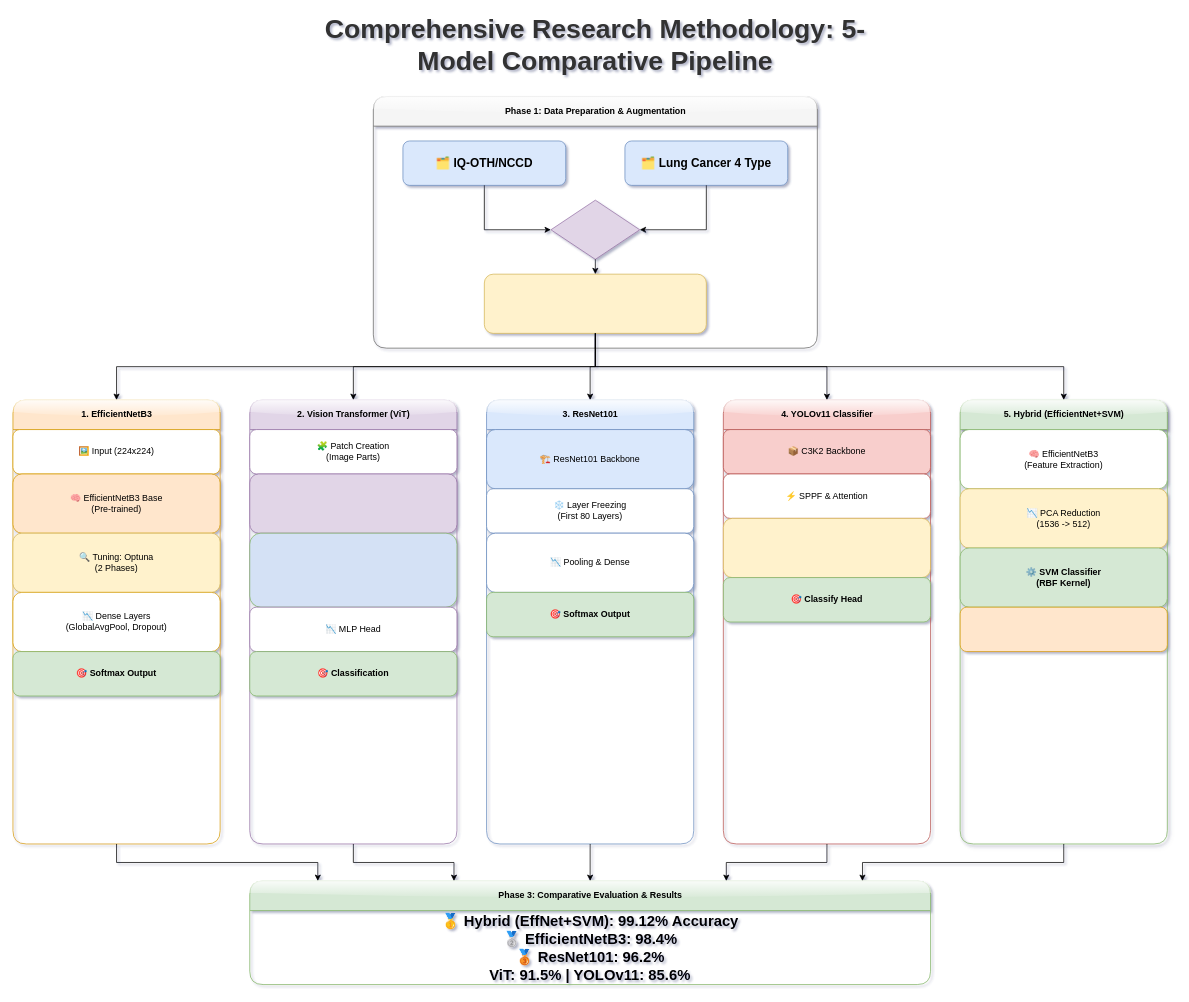
Some shapes in this 1189 by 1002 pixel diagram are drawn without their labels. Here are the shapes that lost their labels. From the top down, the centre of each, then its label:
At point (595, 229): "🔗 Mapping & Merging".
At point (595, 303): "⚙️ Augmentation Pipeline (No-Resize, CLAHE, Balancing)".
At point (353, 503): "📐 Linear Projection & Positional Emb.".
At point (827, 548): "🔍 Optuna Tuning (15 Trials)".
At point (353, 569): "🤖 Transformer Encoder (Self-Attention)".
At point (1063, 629): "🏆 Output Prediction".
